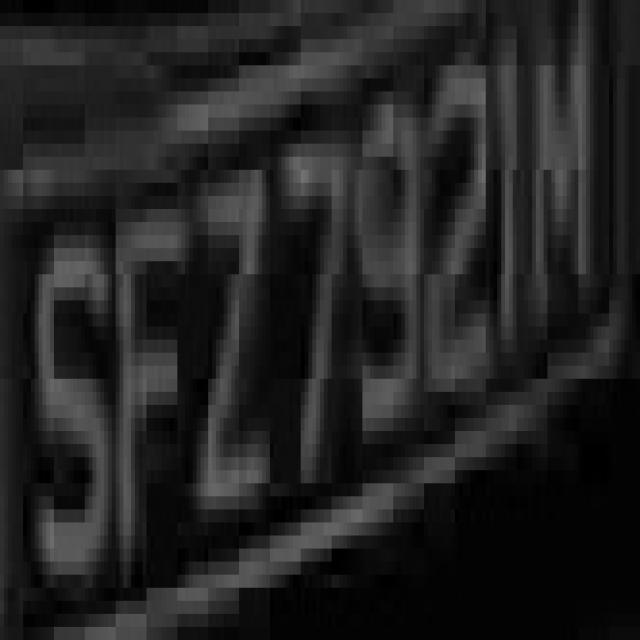1: (493, 13, 536, 431)
2: (420, 39, 494, 431)
7: (274, 105, 351, 522)
9: (347, 39, 428, 470)
F: (112, 183, 181, 588)
M: (532, 26, 594, 366)
S: (23, 209, 112, 627)
Z: (178, 143, 282, 574)
